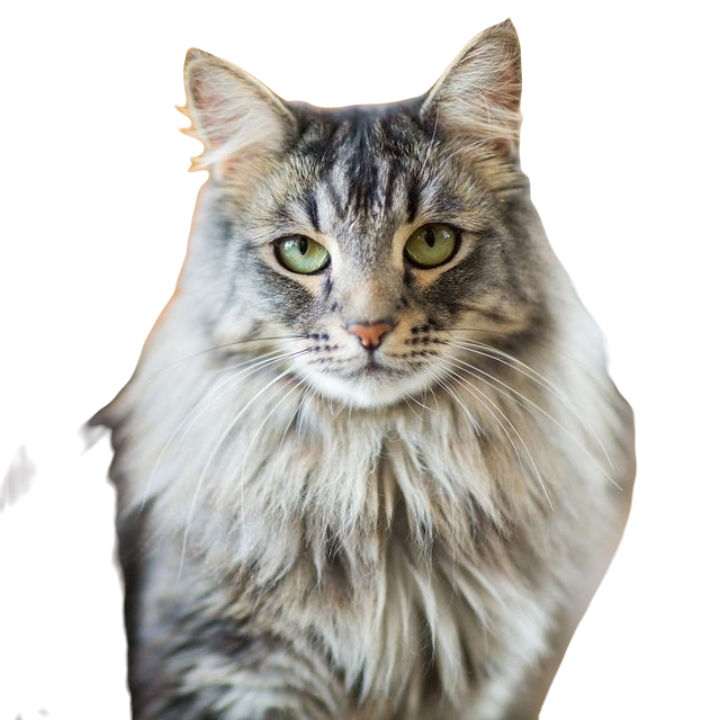Cat: (66, 18, 642, 719)
